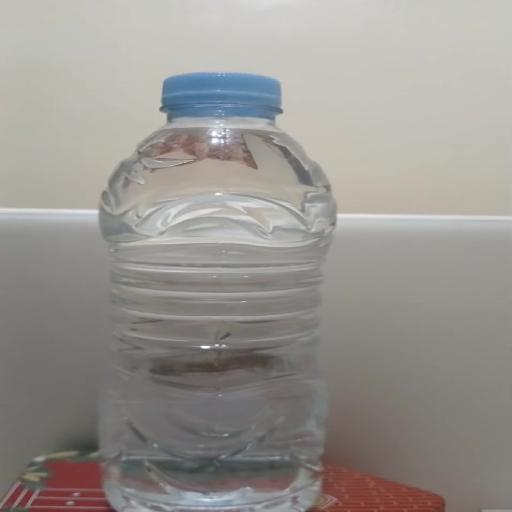bouteille non conformite: (101, 57, 346, 512)
